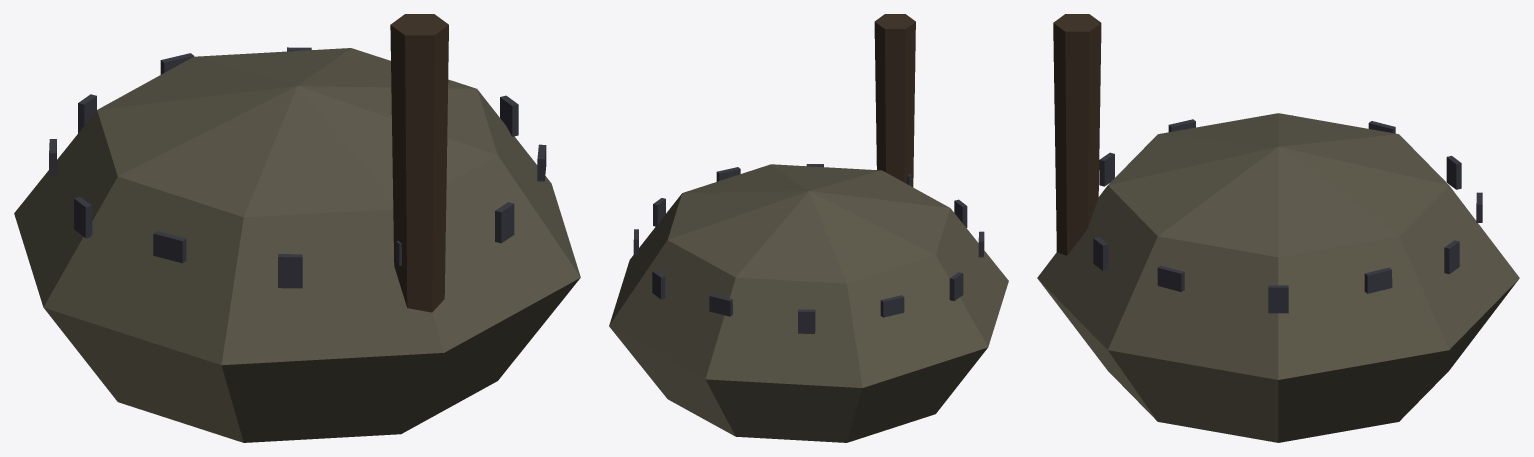
The model's file is s2_chain_grave.glb.
3 views of the same model, side by side, from view 1: azimuth 30°, elevation 25°; view 2: azimuth 150°, elevation 25°; view 3: azimuth 270°, elevation 25° (orthographic). The views are drawn at different scales.
Visible parts, largest first — view 1: s2_chain_grave; view 2: s2_chain_grave; view 3: s2_chain_grave.
Boxes of the visible parts, bbox=[...] form: s2_chain_grave: bbox=[14, 14, 580, 442]; s2_chain_grave: bbox=[609, 14, 1008, 442]; s2_chain_grave: bbox=[1037, 14, 1519, 442].
Size of the model in its own units: 2.4 by 2.12 by 2.4.
